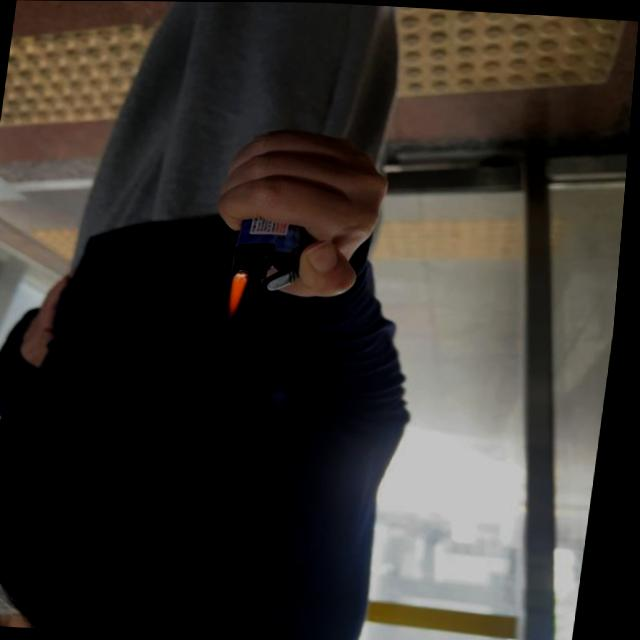Fire: (230, 275, 257, 316)
